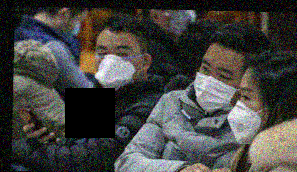with_mask: (191, 58, 237, 114), (224, 85, 263, 147), (94, 43, 138, 93), (160, 10, 196, 42), (59, 15, 85, 46)
